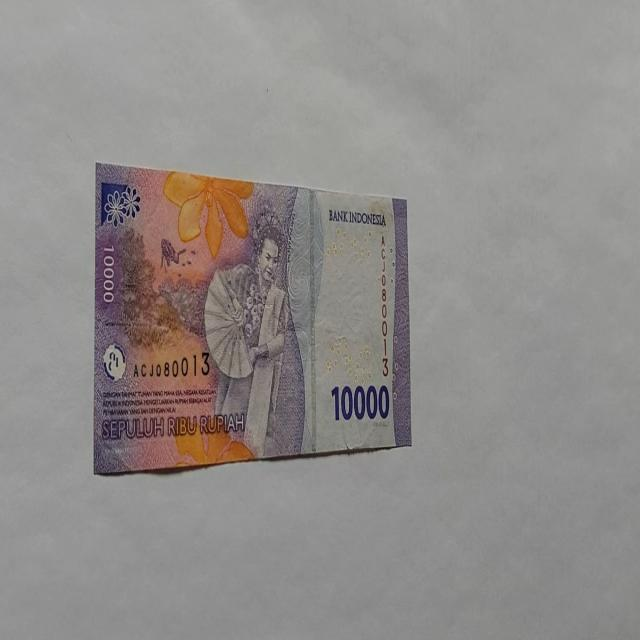sepuluh ribu rupiah: (92, 160, 412, 476)
